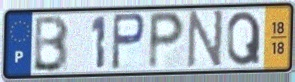1: (90, 14, 107, 71)
B: (31, 13, 71, 74)
N: (185, 8, 226, 71)
P: (146, 10, 187, 72), (109, 11, 147, 73)
Q: (225, 9, 263, 68)
